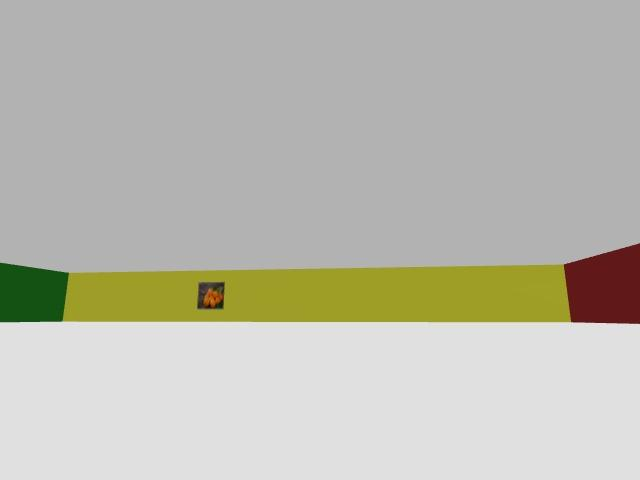orange: (203, 289, 214, 307), (205, 296, 215, 307), (211, 290, 221, 298), (205, 288, 213, 296), (203, 297, 209, 307), (214, 296, 221, 303)
